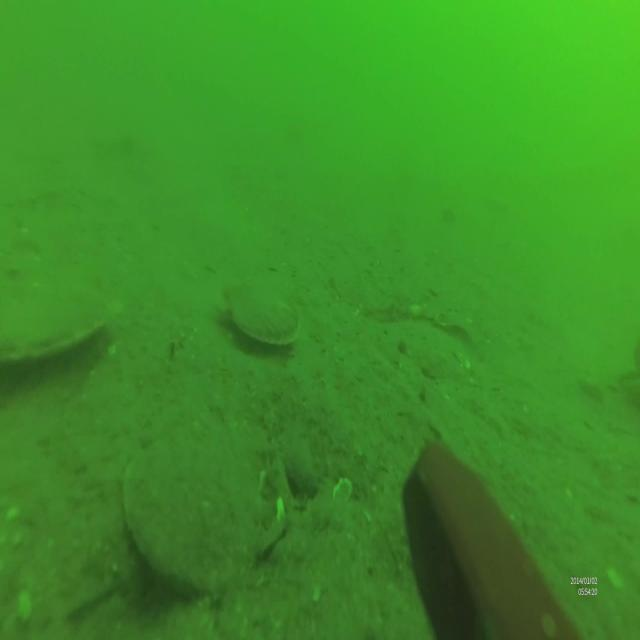scallop: (120, 438, 266, 598), (1, 279, 122, 365), (222, 274, 303, 349)
